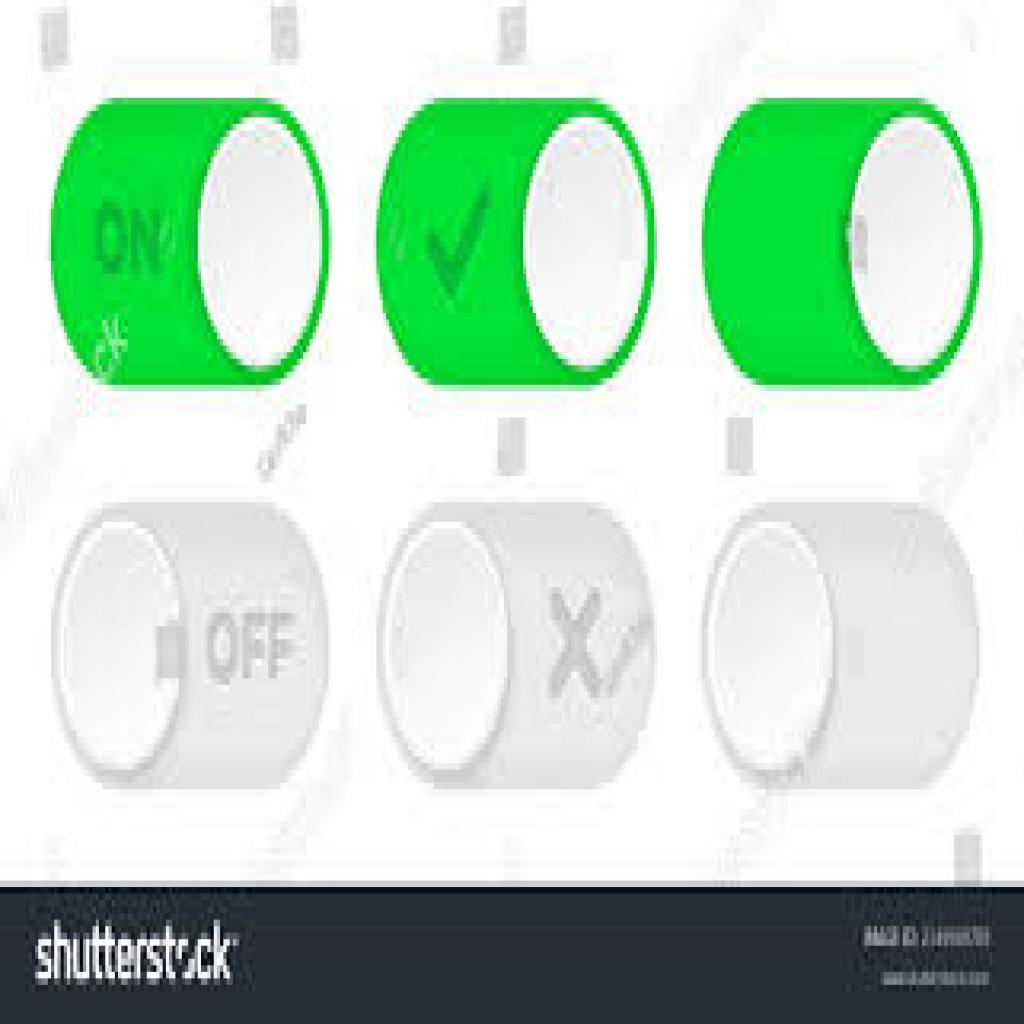switch: (42, 475, 342, 815), (373, 488, 662, 806), (372, 84, 658, 397), (699, 485, 982, 800), (48, 87, 333, 399), (697, 95, 986, 396)
